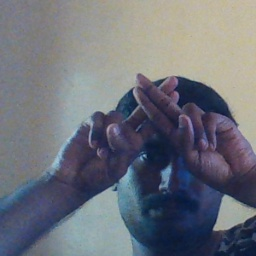F: (105, 69, 215, 169)
